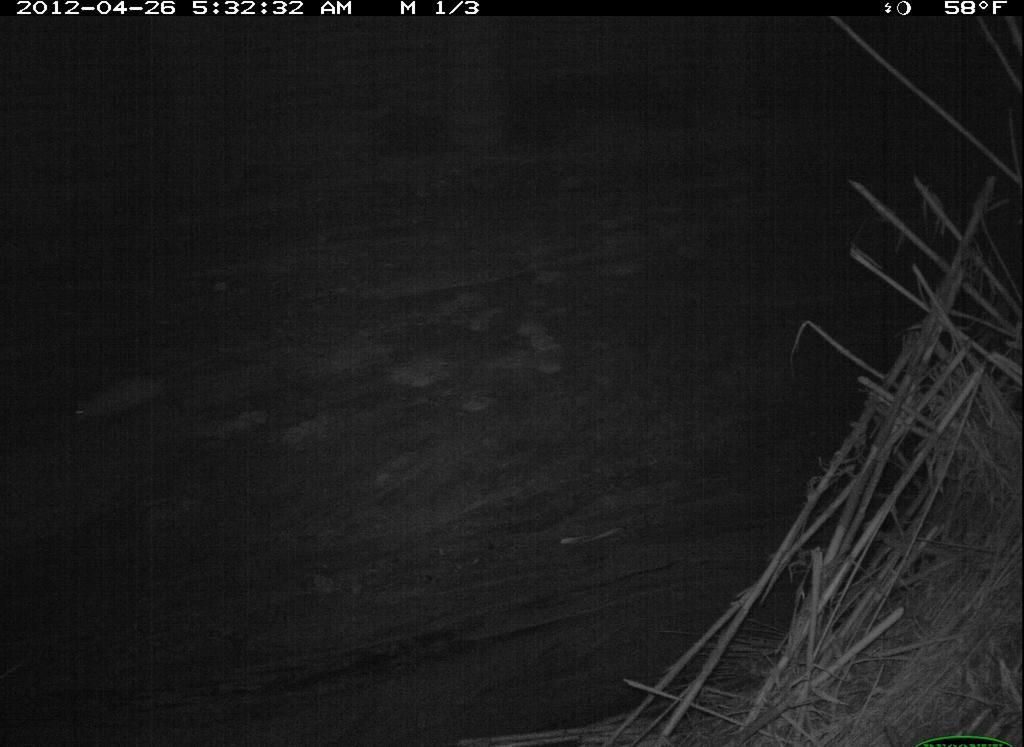opossum: (52, 365, 203, 446)
